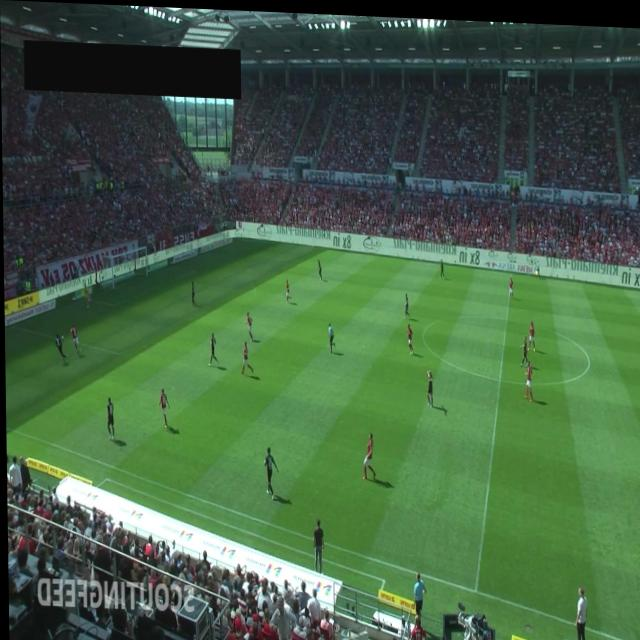goalkeeper: (82, 281, 92, 311)
player: (262, 444, 277, 494), (360, 428, 374, 477), (156, 386, 169, 427), (69, 323, 83, 358), (239, 339, 252, 373), (522, 355, 532, 397), (54, 332, 66, 364), (106, 396, 114, 440), (207, 330, 217, 364), (518, 330, 527, 362), (425, 365, 432, 403), (244, 308, 252, 339), (406, 319, 413, 351), (527, 315, 534, 347), (403, 289, 410, 315), (508, 271, 514, 295), (316, 255, 322, 278), (191, 279, 196, 305), (285, 276, 290, 301), (438, 255, 444, 275)
referee: (327, 318, 333, 351), (534, 255, 539, 273)
